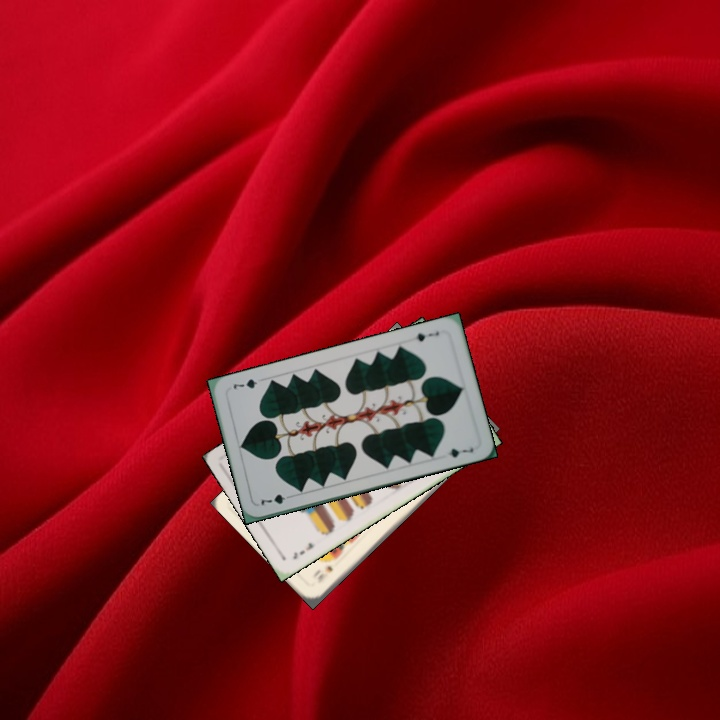E7: (289, 538, 316, 562)
G7: (257, 490, 296, 508), (412, 327, 442, 344)
S10: (313, 561, 335, 586)
